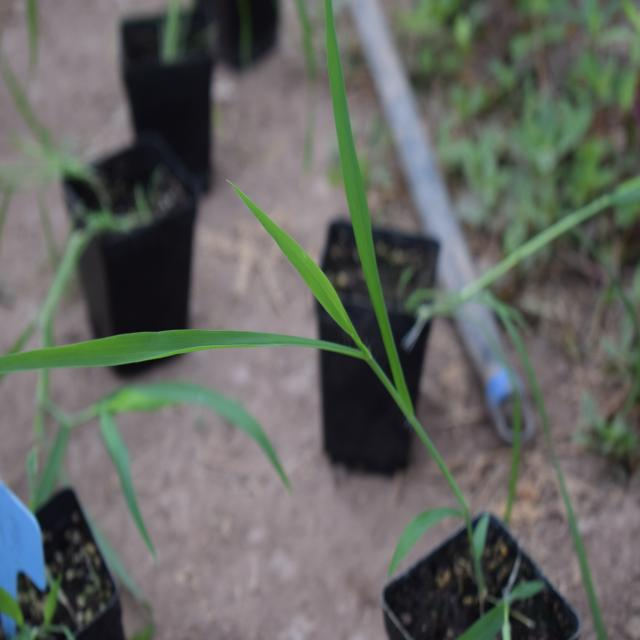crabgrass: (5, 122, 472, 457)
